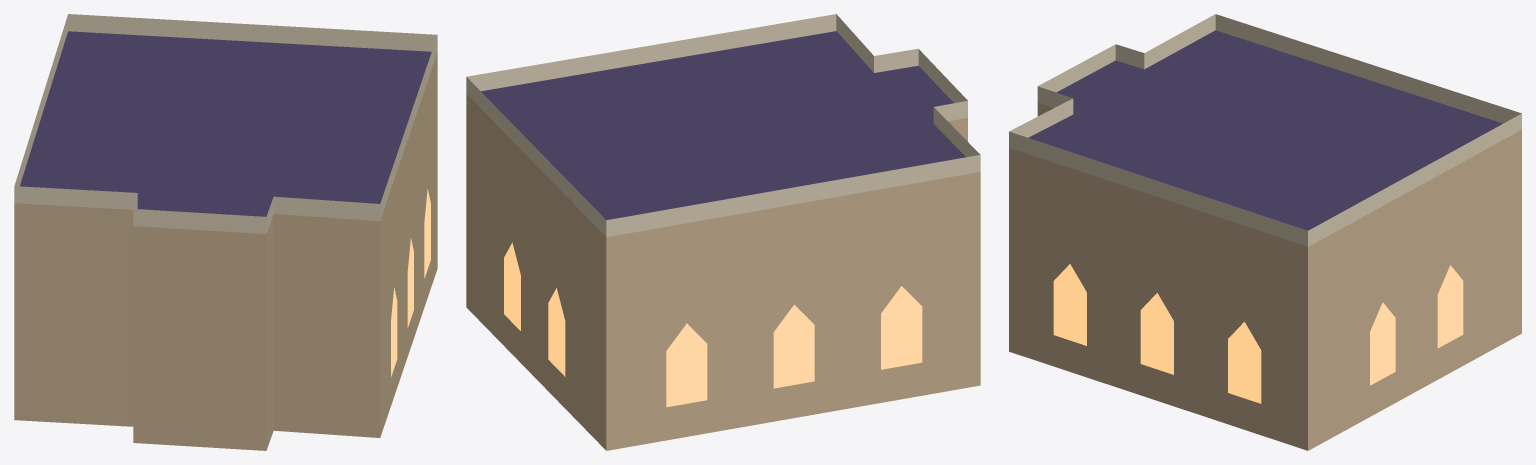
The picture shows the model from 3 angles, left to right: view 1: azimuth 30°, elevation 25°; view 2: azimuth 150°, elevation 25°; view 3: azimuth 270°, elevation 25°; orthographic projection. The views are drawn at different scales.
Visible parts, largest first — view 1: campus/b-109-0; view 2: campus/b-109-0; view 3: campus/b-109-0.
Boxes of the visible parts, box(x1,y1,x2,y2) form: campus/b-109-0: box(14, 14, 437, 450); campus/b-109-0: box(466, 14, 980, 450); campus/b-109-0: box(1009, 14, 1521, 450).
Size of the model in its own units: 15.73 by 7.45 by 15.73.
